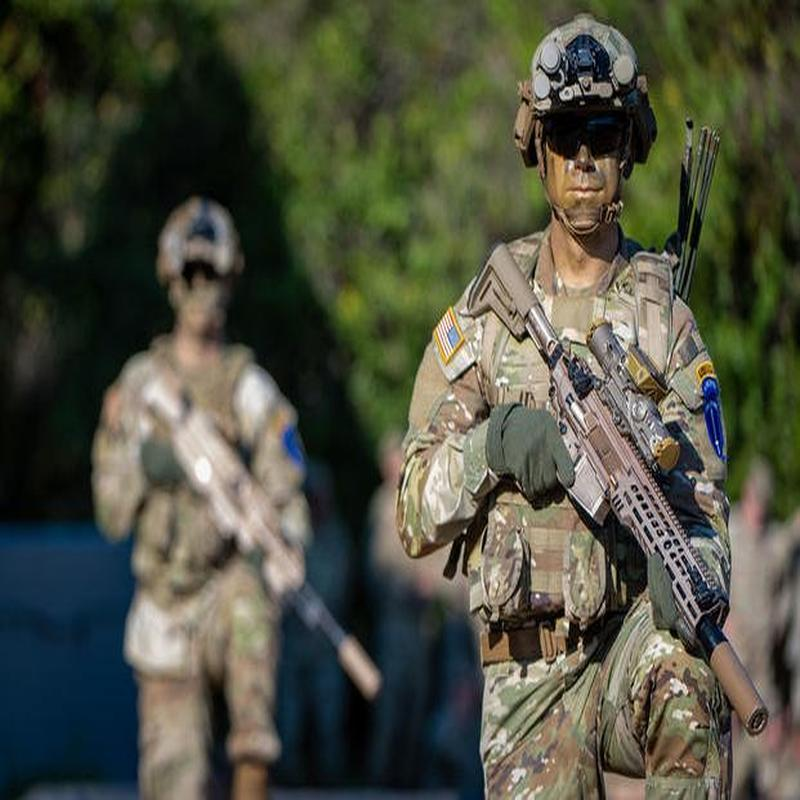GUN: (459, 229, 779, 742)
